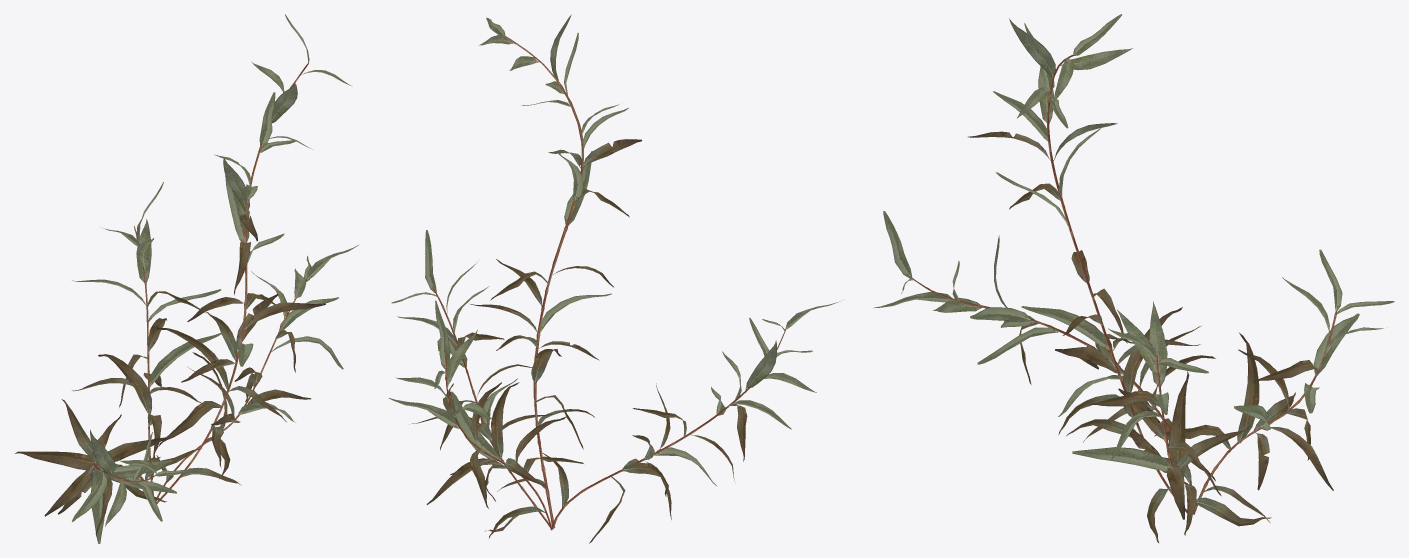
Rendered from natural-shrub-clear.glb.
The picture shows the model from 3 angles, left to right: view 1: azimuth 30°, elevation 25°; view 2: azimuth 150°, elevation 25°; view 3: azimuth 270°, elevation 25°; orthographic projection. The views are drawn at different scales.
Parts seen in each view (by area): view 1: natural-shrub-clear runtime mesh; view 2: natural-shrub-clear runtime mesh; view 3: natural-shrub-clear runtime mesh.
Part boxes in pixels (x1,y1,x2,y2): natural-shrub-clear runtime mesh: [15, 14, 358, 543]; natural-shrub-clear runtime mesh: [388, 14, 842, 543]; natural-shrub-clear runtime mesh: [873, 14, 1394, 542].
Bounding box in the file's own units: 0.6633 × 0.9 × 0.7647.
Materials: 1 (1 with a texture image).
